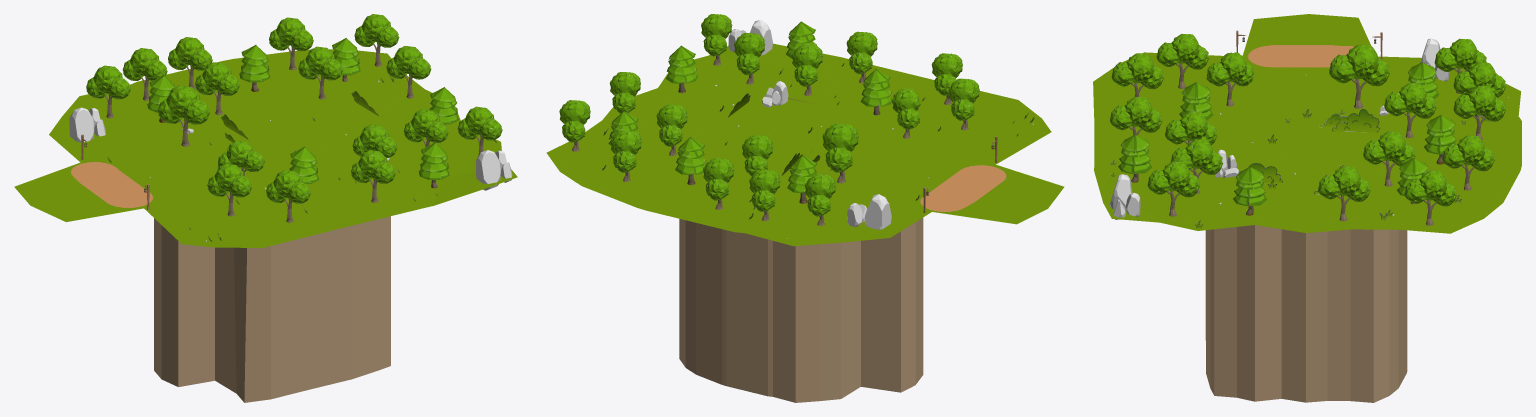
Rendered from Map 1_5.fbx.
3 renders of one model, left to right at view 1: azimuth 30°, elevation 25°; view 2: azimuth 150°, elevation 25°; view 3: azimuth 270°, elevation 25°, orthographic. The views are drawn at different scales.
Visible parts, largest first — view 1: grass.001, Plane, Tree.2, Tree.011, Tree.004, Tree.008, Tree.021, Tree.006, Tree.016, Tree.017, Tree.022, Tree.005 (+14 smaller); view 2: grass.001, Plane, Tree.2, Tree.022, Tree.006, Tree.019, Tree.004, Tree.005, Tree.013, Tree.011, Tree.009, Tree.010 (+13 smaller); view 3: grass.001, Plane, Tree.2, Tree.005, Tree.004, Tree.017, Tree.008, Tree.013, Tree.022, Tree.010, Tree.006, Tree.021 (+14 smaller).
Boxes of the visible parts, left/top/right/bottom form: grass.001: left=14, top=49, right=517, bottom=247; Plane: left=154, top=194, right=390, bottom=402; Tree.2: left=158, top=85, right=210, bottom=146; Tree.011: left=86, top=65, right=130, bottom=118; Tree.004: left=269, top=17, right=313, bottom=70; Tree.008: left=195, top=62, right=239, bottom=114; Tree.021: left=266, top=170, right=310, bottom=222; Tree.006: left=298, top=46, right=343, bottom=99; Tree.016: left=351, top=150, right=395, bottom=202; Tree.017: left=386, top=46, right=431, bottom=98; Tree.022: left=207, top=163, right=252, bottom=216; Tree.005: left=354, top=14, right=399, bottom=66; grass.001: left=546, top=43, right=1064, bottom=246; Plane: left=679, top=98, right=923, bottom=402; Tree.2: left=822, top=123, right=858, bottom=183; Tree.022: left=948, top=78, right=979, bottom=130; Tree.006: left=656, top=104, right=687, bottom=155; Tree.019: left=792, top=44, right=822, bottom=95; Tree.004: left=610, top=130, right=641, bottom=181; Tree.005: left=559, top=100, right=590, bottom=151; Tree.013: left=701, top=14, right=732, bottom=65; Tree.011: left=805, top=174, right=835, bottom=225; Tree.009: left=749, top=169, right=780, bottom=221; Tree.010: left=703, top=158, right=734, bottom=209; grass.001: left=1093, top=14, right=1521, bottom=233; Plane: left=1205, top=225, right=1407, bottom=402; Tree.2: left=1329, top=44, right=1389, bottom=108; Tree.005: left=1404, top=170, right=1456, bottom=225; Tree.004: left=1442, top=135, right=1494, bottom=190; Tree.017: left=1318, top=166, right=1370, bottom=221; Tree.008: left=1384, top=83, right=1436, bottom=137; Tree.013: left=1147, top=161, right=1199, bottom=216; Tree.022: left=1156, top=33, right=1208, bottom=88; Tree.010: left=1453, top=85, right=1505, bottom=139; Tree.006: left=1363, top=131, right=1415, bottom=186; Tree.021: left=1111, top=53, right=1164, bottom=96.
Bounding box in the file's own units: 27680 × 16339 × 22828.
Materials: 47 (32 with a texture image).
